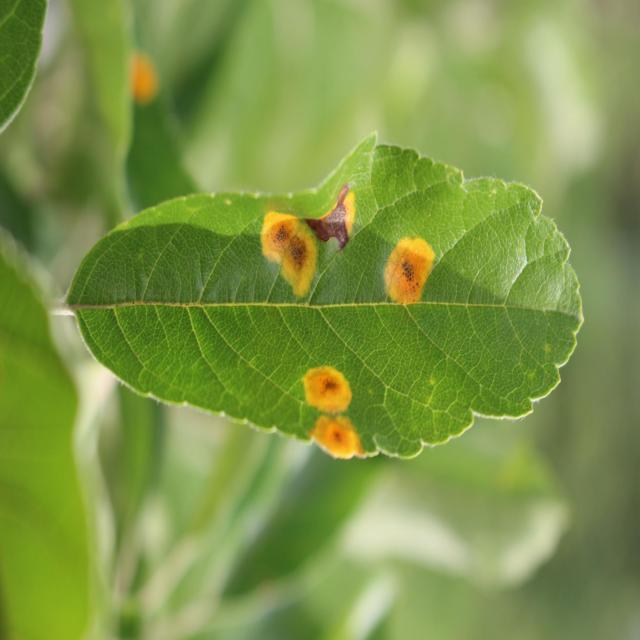Rust: (254, 189, 320, 310), (376, 223, 442, 321), (292, 352, 372, 417), (304, 420, 370, 476)
